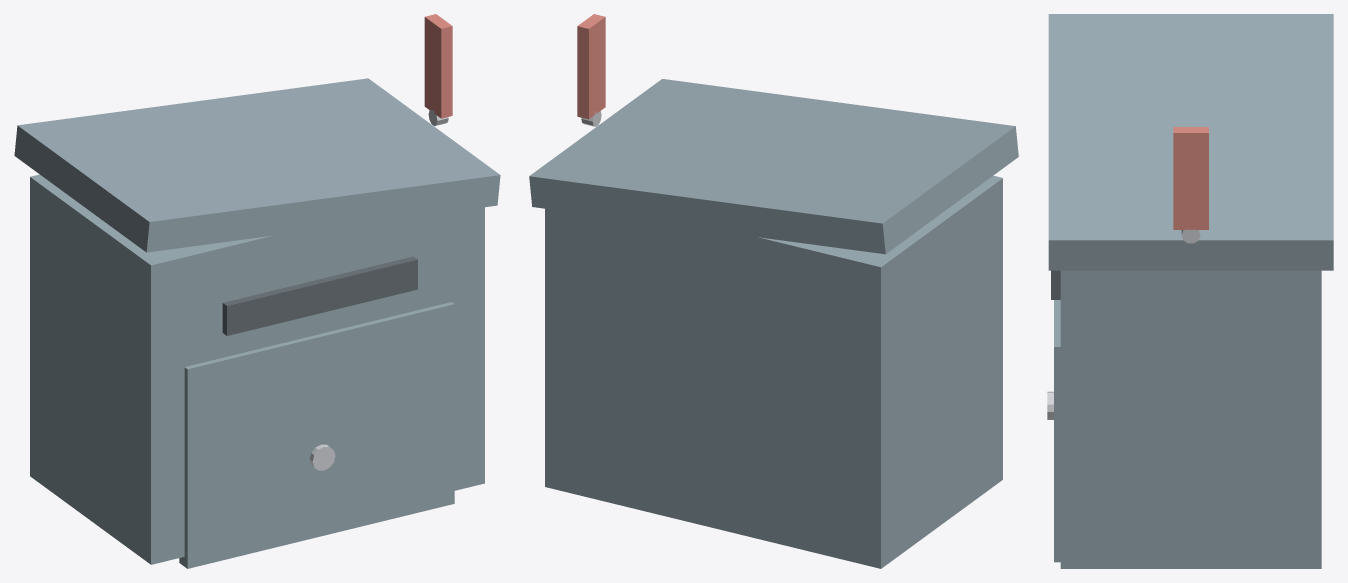
File: container_mailbox.glb
3 renders of one model, left to right at view 1: azimuth 30°, elevation 25°; view 2: azimuth 150°, elevation 25°; view 3: azimuth 270°, elevation 25°, orthographic. The views are drawn at different scales.
Parts seen in each view (by area): view 1: Cmb_Body, Cmb_Roof, Cmb_Door, Cmb_Slot, Cmb_Flag; view 2: Cmb_Body, Cmb_Roof, Cmb_Flag; view 3: Cmb_Body, Cmb_Roof, Cmb_Flag, Cmb_Door.
Boxes of the visible parts, left/top/right/bottom form: Cmb_Body: left=30, top=174, right=484, bottom=564; Cmb_Roof: left=14, top=78, right=500, bottom=252; Cmb_Door: left=179, top=302, right=454, bottom=568; Cmb_Slot: left=222, top=256, right=417, bottom=335; Cmb_Flag: left=424, top=14, right=452, bottom=118; Cmb_Body: left=545, top=175, right=1002, bottom=568; Cmb_Roof: left=529, top=79, right=1018, bottom=254; Cmb_Flag: left=577, top=14, right=605, bottom=119; Cmb_Body: left=1060, top=270, right=1321, bottom=568; Cmb_Roof: left=1048, top=14, right=1333, bottom=270; Cmb_Flag: left=1173, top=127, right=1208, bottom=229; Cmb_Door: left=1054, top=300, right=1060, bottom=562.
Bounding box in the file's own units: 0.3816 × 0.425 × 0.241.
